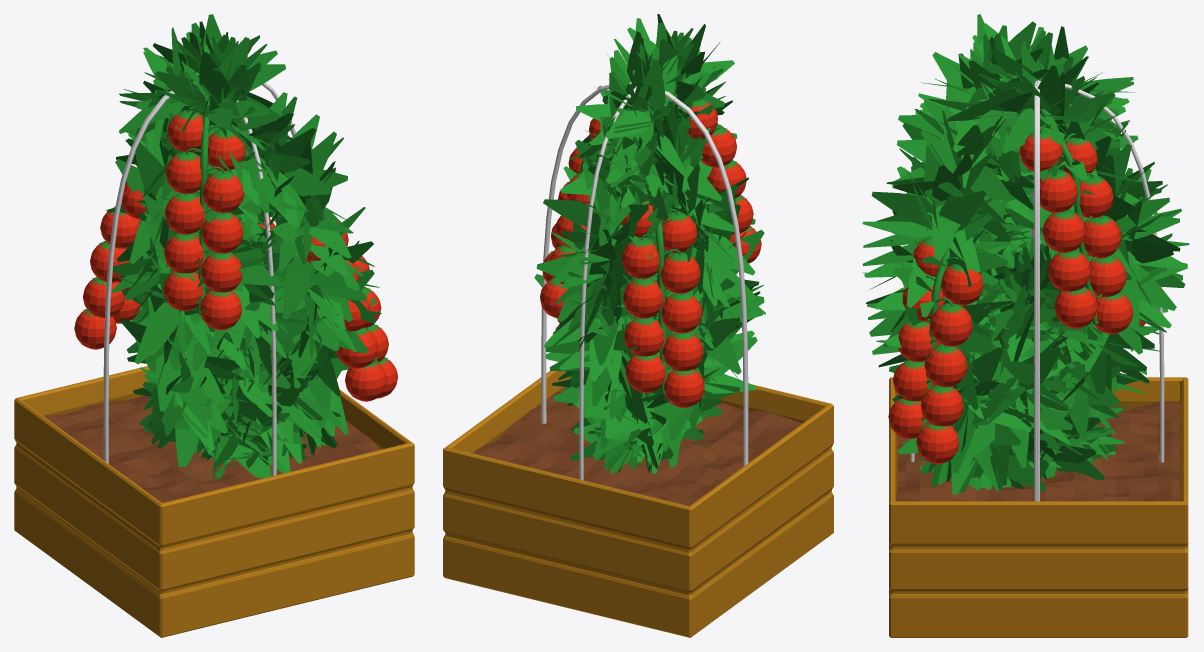
Rendered from Tomato1x1.glb.
The picture shows the model from 3 angles, left to right: view 1: azimuth 30°, elevation 25°; view 2: azimuth 150°, elevation 25°; view 3: azimuth 270°, elevation 25°; orthographic projection. The views are drawn at different scales.
Visible parts, largest first — view 1: BézierCurve.003, 1x1, 1x1 Soil, BézierCurve.001, Sphere.040, BézierCurve.002, Sphere.044, Sphere.042, Sphere.041, Sphere.046, Sphere.043, Sphere.039 (+11 smaller); view 2: 1x1, BézierCurve.003, 1x1 Soil, BézierCurve.001, BézierCurve.002, Sphere.012, Sphere.010, Sphere.011, Sphere.014, Sphere.013, Sphere.016, Sphere.009 (+7 smaller); view 3: BézierCurve.003, 1x1, 1x1 Soil, BézierCurve.001, Sphere.030, Sphere.032, Sphere.021, Sphere.034, Sphere.023, Sphere.036, BézierCurve.002, Sphere.025 (+15 smaller).
Boxes of the visible parts, x1,y1,x2,y2 form: BézierCurve.003: (106, 14, 381, 480); 1x1: (14, 366, 414, 637); 1x1 Soil: (43, 395, 379, 502); BézierCurve.001: (103, 82, 295, 463); Sphere.040: (202, 166, 244, 212); BézierCurve.002: (149, 100, 276, 475); Sphere.044: (200, 248, 242, 292); Sphere.042: (201, 208, 243, 253); Sphere.041: (164, 190, 205, 234); Sphere.046: (200, 286, 242, 330); Sphere.043: (164, 230, 204, 273); Sphere.039: (165, 148, 207, 193); 1x1: (443, 371, 833, 637); BézierCurve.003: (534, 14, 765, 473); 1x1 Soil: (473, 391, 802, 506); BézierCurve.001: (541, 82, 748, 466); BézierCurve.002: (579, 86, 636, 480); Sphere.012: (661, 290, 702, 333); Sphere.010: (660, 249, 700, 293); Sphere.011: (623, 274, 663, 318); Sphere.014: (662, 329, 703, 371); Sphere.013: (624, 313, 664, 356); Sphere.016: (664, 366, 704, 407); Sphere.009: (621, 233, 659, 278); BézierCurve.003: (862, 14, 1189, 496); 1x1: (889, 377, 1188, 637); 1x1 Soil: (896, 401, 1181, 501); BézierCurve.001: (1034, 80, 1039, 501); Sphere.030: (930, 298, 972, 346); Sphere.032: (924, 339, 967, 387); Sphere.021: (1042, 204, 1085, 253); Sphere.034: (921, 379, 963, 426); Sphere.023: (1048, 245, 1091, 291); Sphere.036: (916, 417, 959, 464); BézierCurve.002: (910, 80, 1164, 462); Sphere.025: (1054, 286, 1097, 328).
Bounding box in the file's own units: 1.01 × 2.02 × 1.09.
